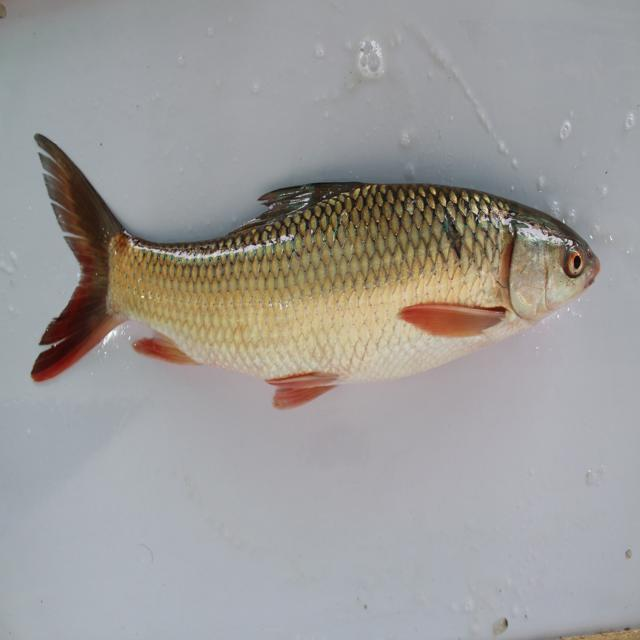Mori: (33, 120, 606, 415)
